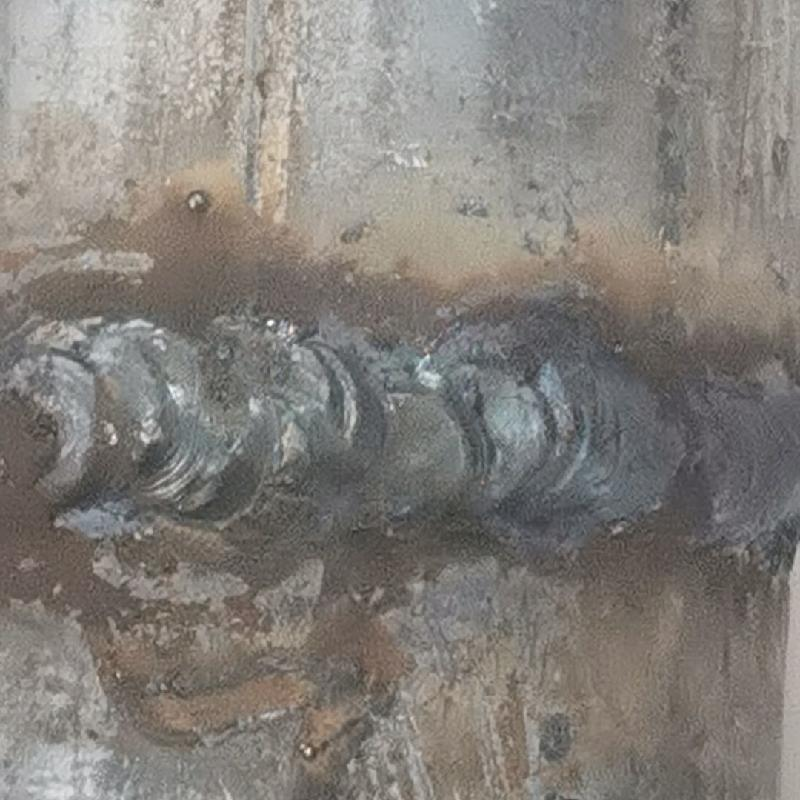good: (2, 314, 799, 548)
